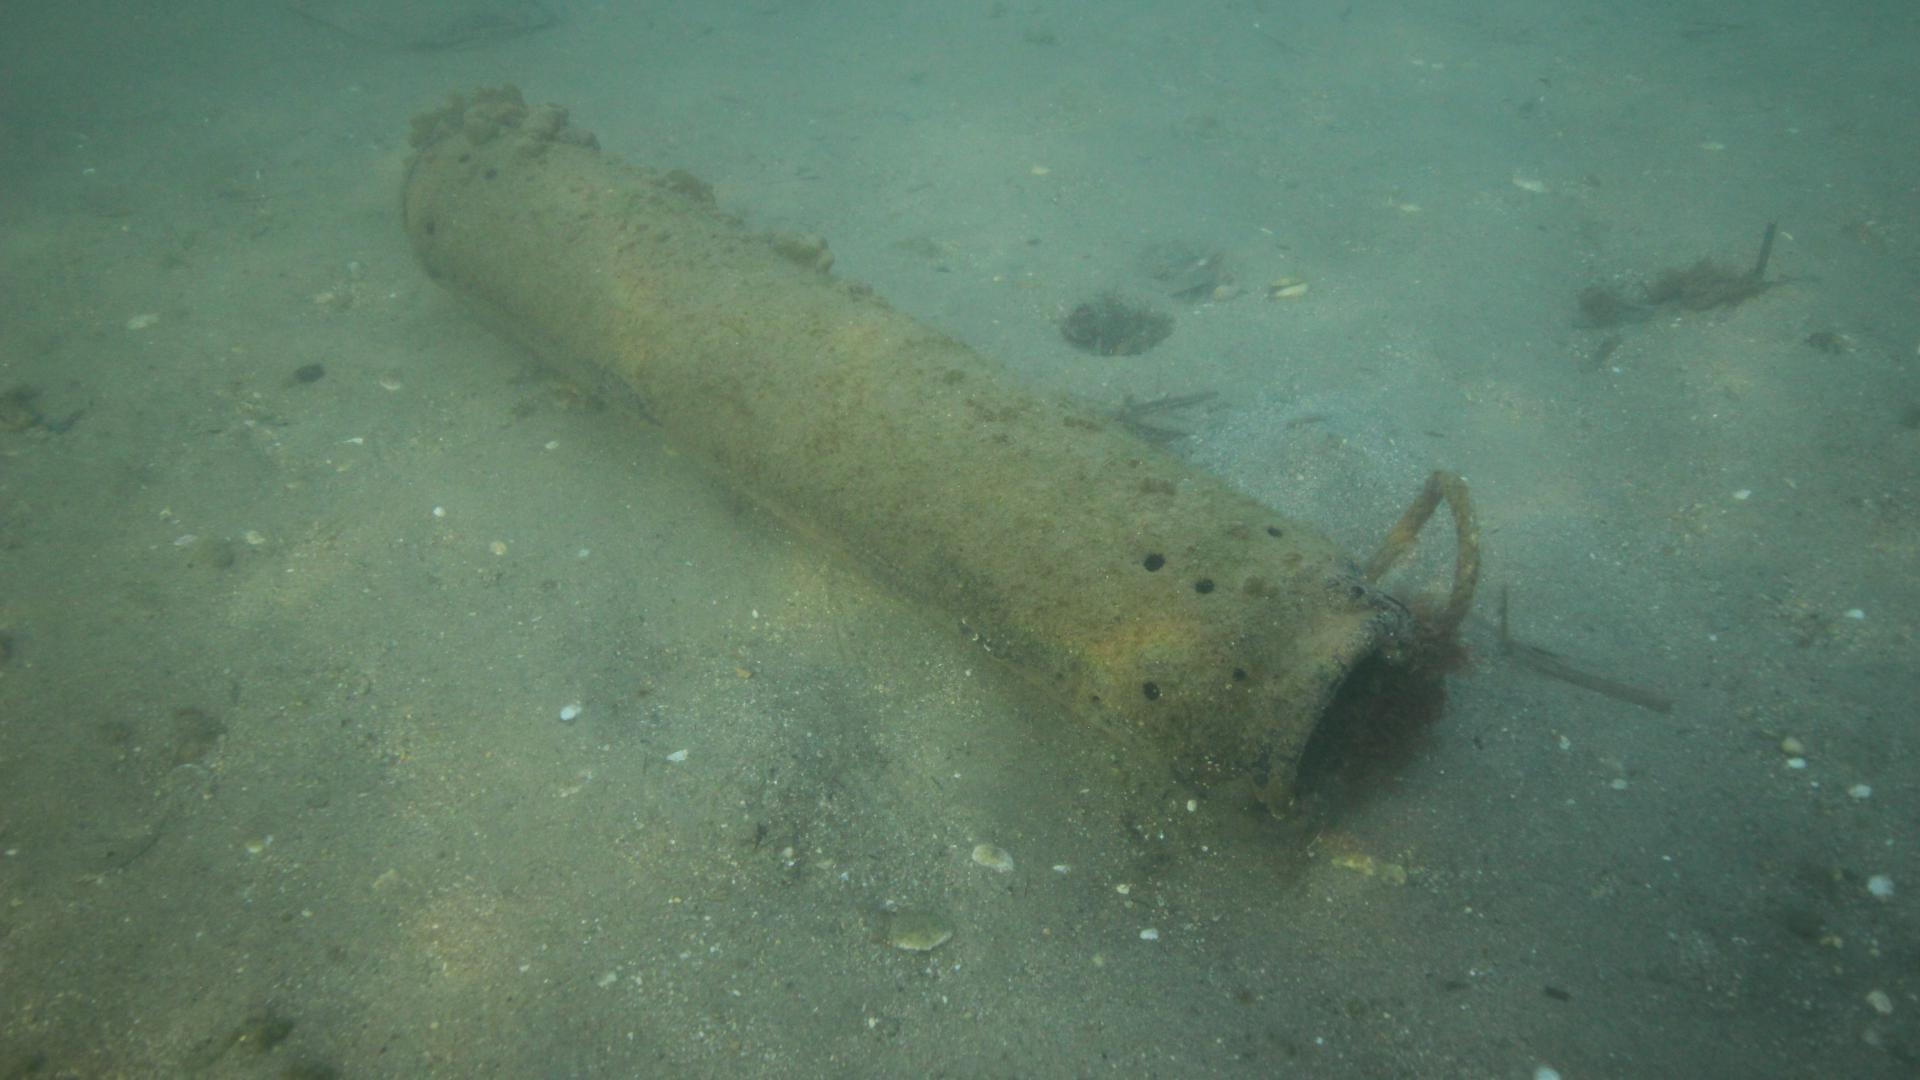eel fish trap: (397, 80, 1484, 822)
rope: (1356, 472, 1482, 640)
